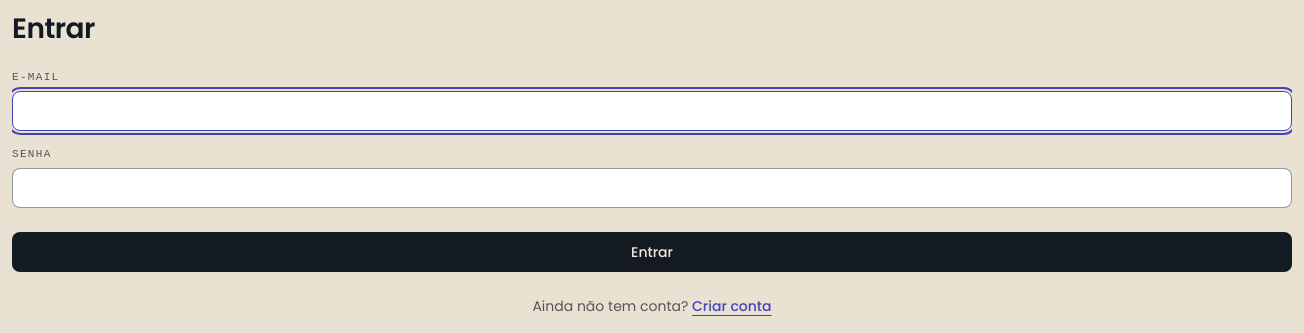
Scenario: SignInForm › disables the button while submitting, then goes to the safe next target
Type "helena@demo.local" into the field labelled "E-mail" at (652, 111), box [12,91,1292,131]
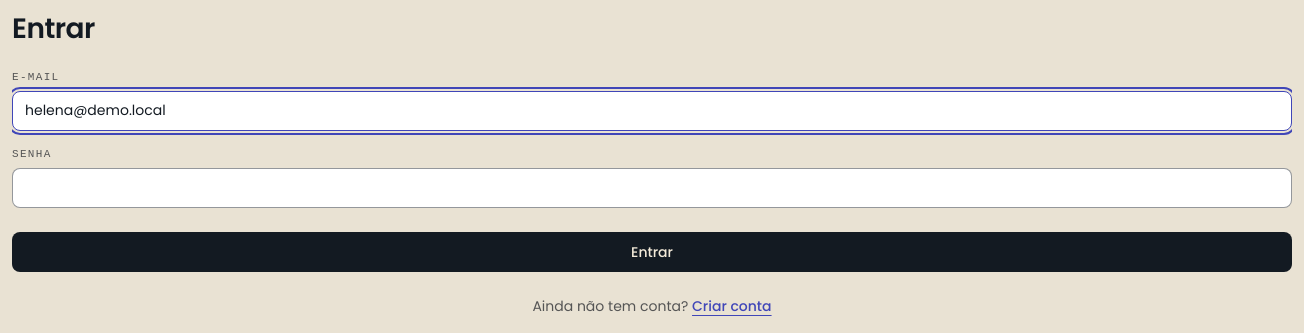
Type "demo12345" into the password field labelled "Senha" at (652, 188), box [12,168,1292,208]
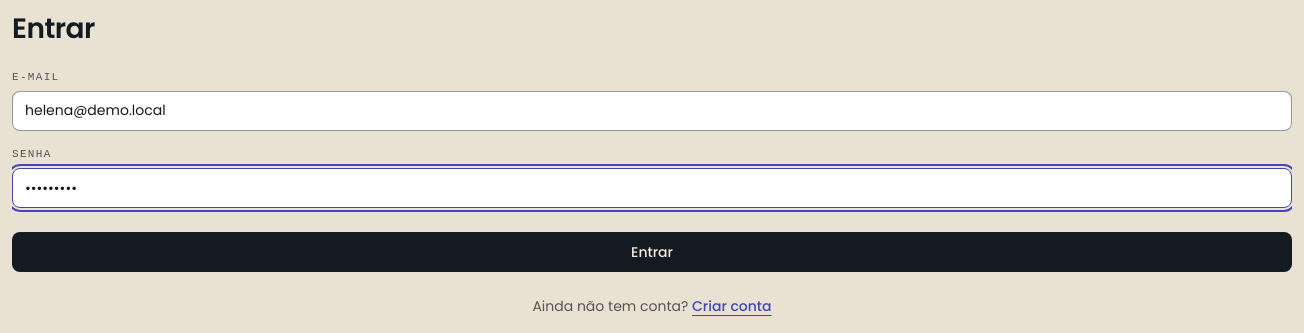
Click the button "Entrar" at (652, 252), box [12,232,1292,272]
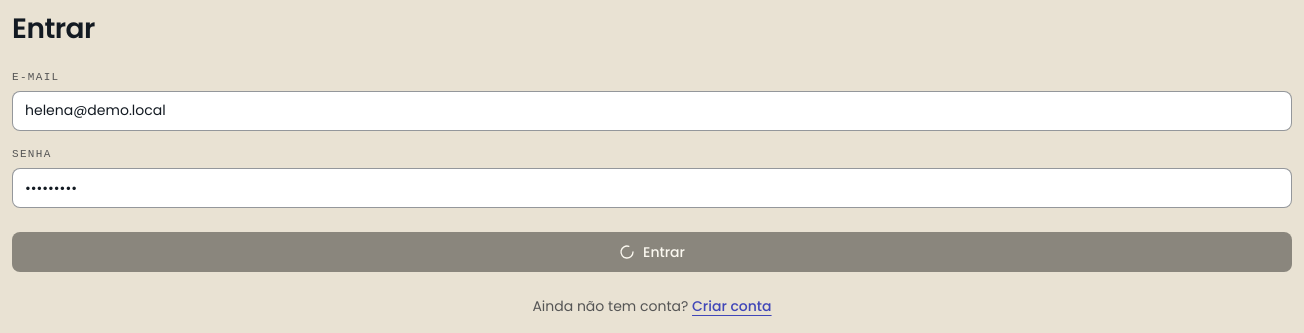
expect the button "Entrar" is disabled: met, box [12,232,1292,272]
